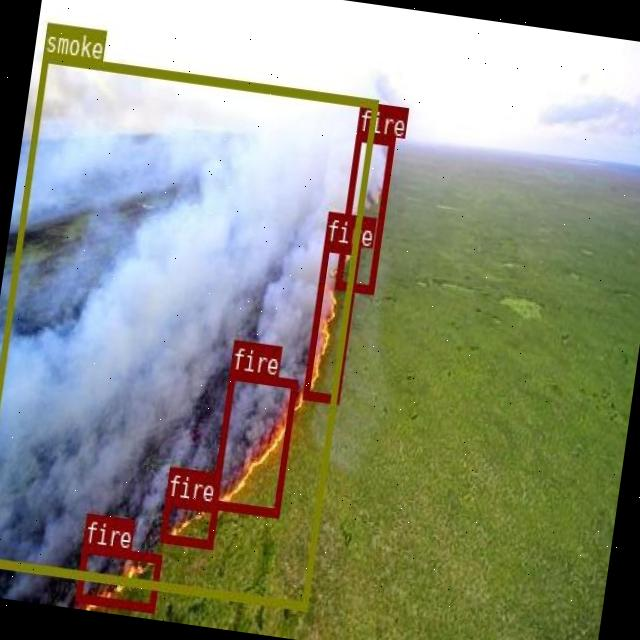fire: (211, 369, 298, 516), (335, 131, 394, 291), (302, 242, 358, 401), (75, 543, 162, 611), (160, 496, 217, 548)
smoke: (0, 52, 377, 610)
